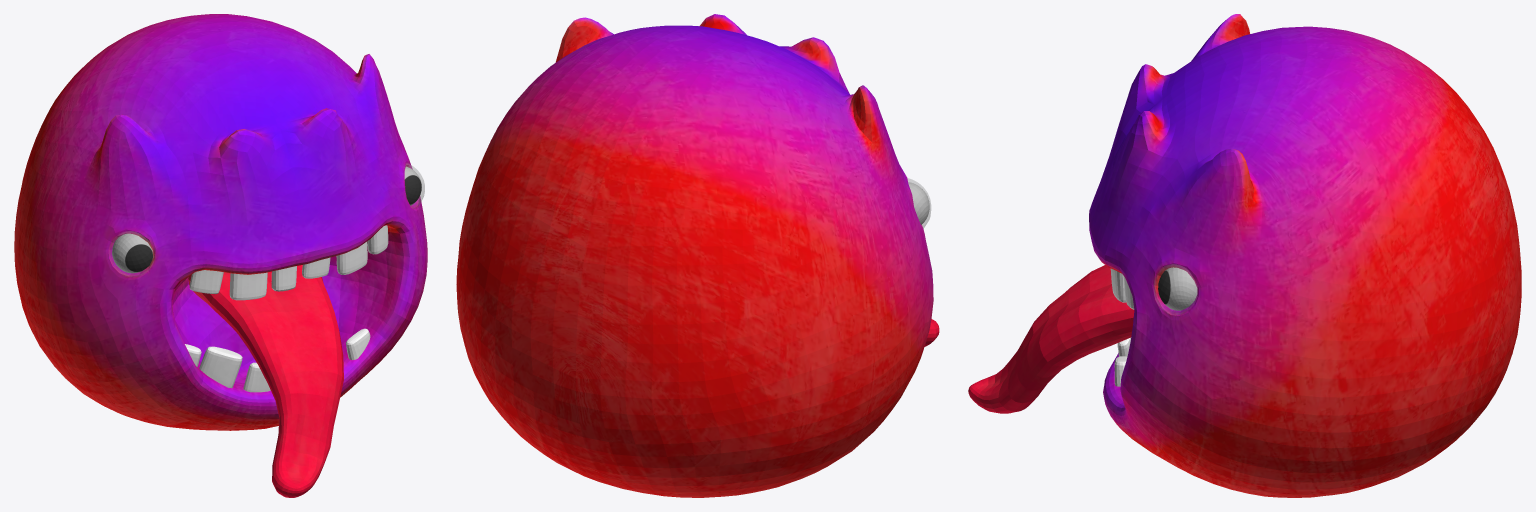
Rendered from monster_happy_oscar_creativo-transformed.glb.
3 views of the same model, side by side, from view 1: azimuth 30°, elevation 25°; view 2: azimuth 150°, elevation 25°; view 3: azimuth 270°, elevation 25° (orthographic). The views are drawn at different scales.
Parts seen in each view (by area): view 1: PM3D_Sphere3D_4_PM3D_Sphere3D_4_0, LENGUA_LENGUA_0, DIENTES_DIENTES_0, Ojo_cristal_Ojo_cristal_0, OJO1_OJO1_0, OJO2_OJO2_0; view 2: PM3D_Sphere3D_4_PM3D_Sphere3D_4_0, Ojo_cristal_Ojo_cristal_0, OJO1_OJO1_0; view 3: PM3D_Sphere3D_4_PM3D_Sphere3D_4_0, LENGUA_LENGUA_0, Ojo_cristal_Ojo_cristal_0, OJO2_OJO2_0, DIENTES_DIENTES_0.
Boxes of the visible parts, left/top/right/bottom form: PM3D_Sphere3D_4_PM3D_Sphere3D_4_0: left=14, top=14, right=427, bottom=430; LENGUA_LENGUA_0: left=188, top=265, right=343, bottom=497; DIENTES_DIENTES_0: left=185, top=225, right=388, bottom=392; Ojo_cristal_Ojo_cristal_0: left=109, top=163, right=424, bottom=276; OJO1_OJO1_0: left=112, top=233, right=153, bottom=273; OJO2_OJO2_0: left=404, top=166, right=421, bottom=205; PM3D_Sphere3D_4_PM3D_Sphere3D_4_0: left=456, top=14, right=933, bottom=497; Ojo_cristal_Ojo_cristal_0: left=907, top=178, right=930, bottom=228; OJO1_OJO1_0: left=908, top=182, right=929, bottom=224; PM3D_Sphere3D_4_PM3D_Sphere3D_4_0: left=1089, top=14, right=1521, bottom=497; LENGUA_LENGUA_0: left=968, top=265, right=1134, bottom=413; Ojo_cristal_Ojo_cristal_0: left=1154, top=264, right=1197, bottom=314; OJO2_OJO2_0: left=1158, top=267, right=1197, bottom=310; DIENTES_DIENTES_0: left=1110, top=268, right=1134, bottom=386.
Bounding box in the file's own units: 2.18 × 2.14 × 2.59.
Materials: 6 (5 with a texture image).
